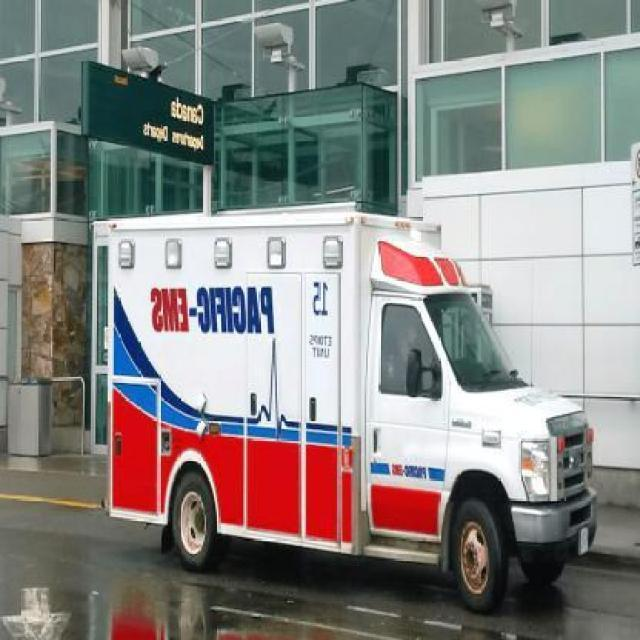emergency: (90, 202, 598, 612)
